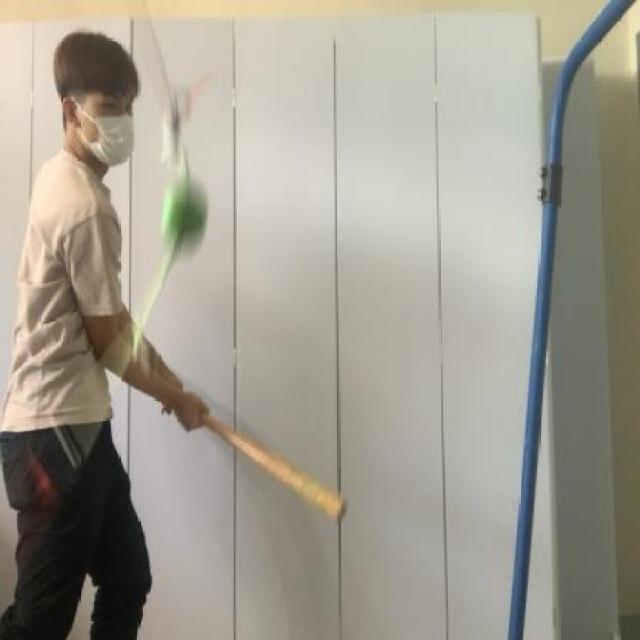baseball: (153, 181, 215, 265)
